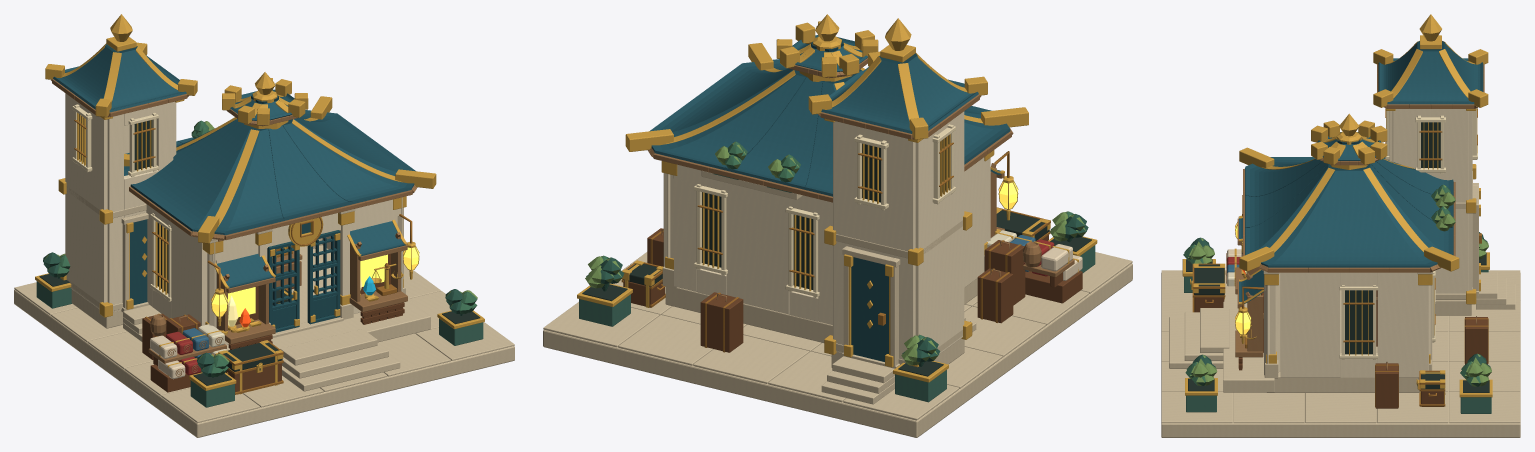
Rendered from treasure.glb.
The picture shows the model from 3 angles, left to right: view 1: azimuth 30°, elevation 25°; view 2: azimuth 150°, elevation 25°; view 3: azimuth 270°, elevation 25°; orthographic projection. The views are drawn at different scales.
Parts seen in each view (by area): view 1: RFbatch_25.026, RFbatch_0.026, RFbatch_14.026, RFbatch_3.026, RFbatch_24.026, RFbatch_32.026, RFbatch_89.017, RFbatch_49.026, RFbatch_2.026, RFbatch_28.026, RFbatch_35.026, RFbatch_36.026 (+37 smaller); view 2: RFbatch_0.026, RFbatch_14.026, RFbatch_3.026, RFbatch_25.026, RFbatch_63.026, RFbatch_32.026, RFbatch_28.026, RFbatch_35.026, RFbatch_15.026, RFbatch_89.017, RFbatch_1.026, RFbatch_5.026 (+27 smaller); view 3: RFbatch_0.026, RFbatch_25.026, RFbatch_3.026, RFbatch_14.026, RFbatch_32.026, RFbatch_89.017, RFbatch_24.026, RFbatch_28.026, RFbatch_63.026, RFbatch_35.026, RFbatch_2.026, RFbatch_1.026 (+29 smaller).
Part boxes in pixels (bbox=[...]): RFbatch_25.026: bbox=[124, 110, 415, 235]; RFbatch_0.026: bbox=[14, 264, 514, 437]; RFbatch_14.026: bbox=[65, 93, 176, 312]; RFbatch_3.026: bbox=[146, 197, 403, 344]; RFbatch_24.026: bbox=[123, 305, 400, 391]; RFbatch_32.026: bbox=[53, 46, 186, 112]; RFbatch_89.017: bbox=[124, 96, 436, 243]; RFbatch_49.026: bbox=[217, 234, 407, 344]; RFbatch_2.026: bbox=[226, 300, 430, 350]; RFbatch_28.026: bbox=[222, 72, 308, 129]; RFbatch_35.026: bbox=[45, 14, 197, 117]; RFbatch_36.026: bbox=[217, 221, 405, 288]; RFbatch_0.026: bbox=[543, 252, 1132, 437]; RFbatch_14.026: bbox=[833, 111, 964, 359]; RFbatch_3.026: bbox=[663, 157, 990, 324]; RFbatch_25.026: bbox=[649, 59, 1010, 196]; RFbatch_63.026: bbox=[623, 228, 1048, 352]; RFbatch_32.026: bbox=[821, 56, 978, 133]; RFbatch_28.026: bbox=[776, 14, 878, 81]; RFbatch_35.026: bbox=[808, 18, 987, 139]; RFbatch_15.026: bbox=[851, 257, 888, 361]; RFbatch_89.017: bbox=[625, 43, 1028, 151]; RFbatch_1.026: bbox=[665, 278, 977, 342]; RFbatch_5.026: bbox=[694, 184, 819, 297]; RFbatch_0.026: bbox=[1161, 270, 1520, 437]; RFbatch_25.026: bbox=[1245, 157, 1453, 267]; RFbatch_3.026: bbox=[1264, 272, 1432, 377]; RFbatch_14.026: bbox=[1389, 109, 1472, 300]; RFbatch_32.026: bbox=[1378, 42, 1483, 104]; RFbatch_89.017: bbox=[1239, 147, 1459, 271]; RFbatch_24.026: bbox=[1169, 308, 1229, 368]; RFbatch_28.026: bbox=[1311, 113, 1387, 169]; RFbatch_63.026: bbox=[1194, 297, 1487, 408]; RFbatch_35.026: bbox=[1373, 14, 1488, 107]; RFbatch_2.026: bbox=[1223, 281, 1274, 392]; RFbatch_1.026: bbox=[1267, 290, 1420, 392].
Size of the model in its own units: 10 by 9.27 by 10.
Materials: 23 (14 with a texture image).
